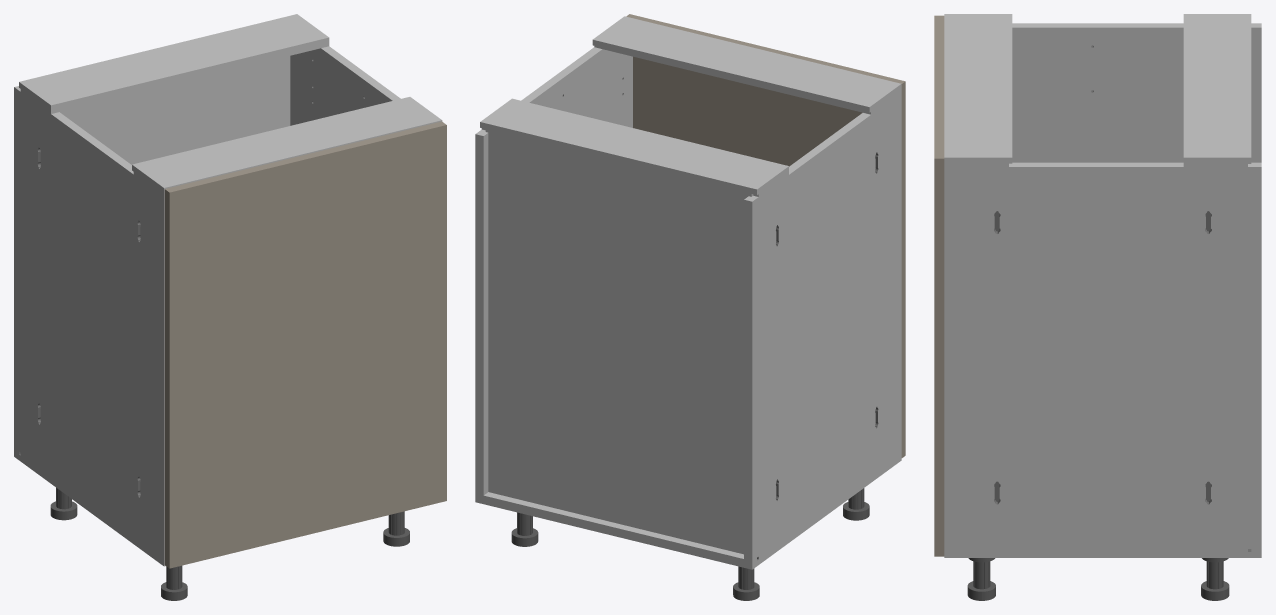
The model's file is BaseUnit_1D_600-1770747178862.glb.
3 views of the same model, side by side, from view 1: azimuth 30°, elevation 25°; view 2: azimuth 150°, elevation 25°; view 3: azimuth 270°, elevation 25° (orthographic). The views are drawn at different scales.
Visible parts, largest first — view 1: Door, SidePanel_L, BackPanel, TopRib_B, TopRib_F, SidePanel_L001, BasePanel, Leg_FL, Leg_FR, Leg_BL; view 2: BackPanel, SidePanel_L, Door, TopRib_F, TopRib_B, SidePanel_L001, BasePanel, Leg_BL, Leg_BR, Leg_FL; view 3: SidePanel_L001, SidePanel_L, TopRib_F, TopRib_B, Door, BasePanel, Leg_BR, Leg_FR.
Boxes of the visible parts, x1,y1,x2,y2 form: Door: [164, 121, 446, 568]; SidePanel_L: [14, 86, 164, 557]; BackPanel: [60, 56, 290, 164]; TopRib_B: [19, 14, 329, 113]; TopRib_F: [132, 97, 442, 196]; SidePanel_L001: [290, 46, 400, 125]; BasePanel: [14, 448, 165, 566]; Leg_FL: [161, 565, 187, 600]; Leg_FR: [383, 511, 409, 546]; Leg_BL: [50, 487, 77, 520]; BackPanel: [485, 129, 753, 554]; SidePanel_L: [744, 92, 901, 560]; Door: [626, 14, 905, 457]; TopRib_F: [592, 16, 901, 114]; TopRib_B: [480, 98, 788, 196]; SidePanel_L001: [475, 47, 632, 495]; BasePanel: [475, 452, 901, 569]; Leg_BL: [733, 566, 759, 600]; Leg_BR: [511, 512, 538, 546]; Leg_FL: [843, 488, 869, 520]; SidePanel_L001: [944, 162, 1261, 548]; SidePanel_L: [1012, 23, 1261, 162]; TopRib_F: [944, 14, 1012, 166]; TopRib_B: [1183, 14, 1251, 166]; Door: [934, 15, 944, 556]; BasePanel: [944, 548, 1261, 562]; Leg_BR: [1201, 561, 1229, 600]; Leg_FR: [967, 561, 995, 600].
Bounding box in the file's own units: 0.6 × 0.88 × 0.5779.
